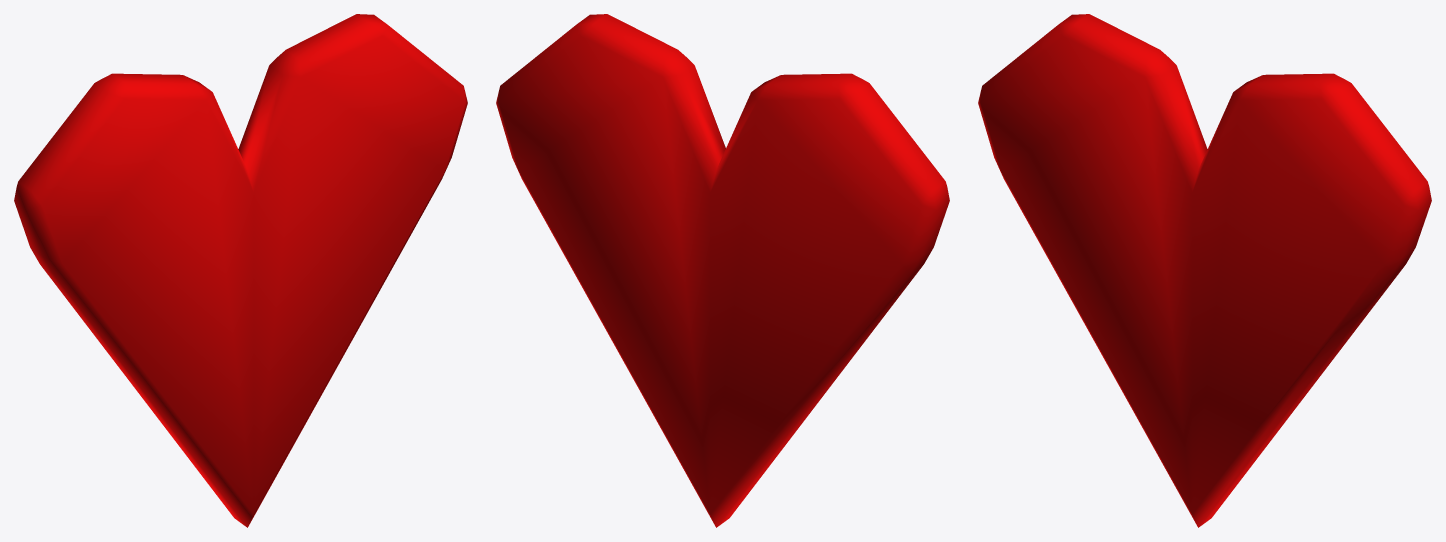
Rendered from Heart.fbx.
3 renders of one model, left to right at view 1: azimuth 30°, elevation 25°; view 2: azimuth 150°, elevation 25°; view 3: azimuth 330°, elevation 25°, orthographic.
Parts seen in each view (by area): view 1: Heart; view 2: Heart; view 3: Heart.
Part boxes in pixels (x1,y1,x2,y2): Heart: (14,14,467,527); Heart: (496,14,949,527); Heart: (978,14,1431,527).
Size of the model in its own units: 57.98 by 59.66 by 5.82.
